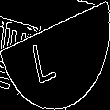L_N: (40, 26, 70, 84)
